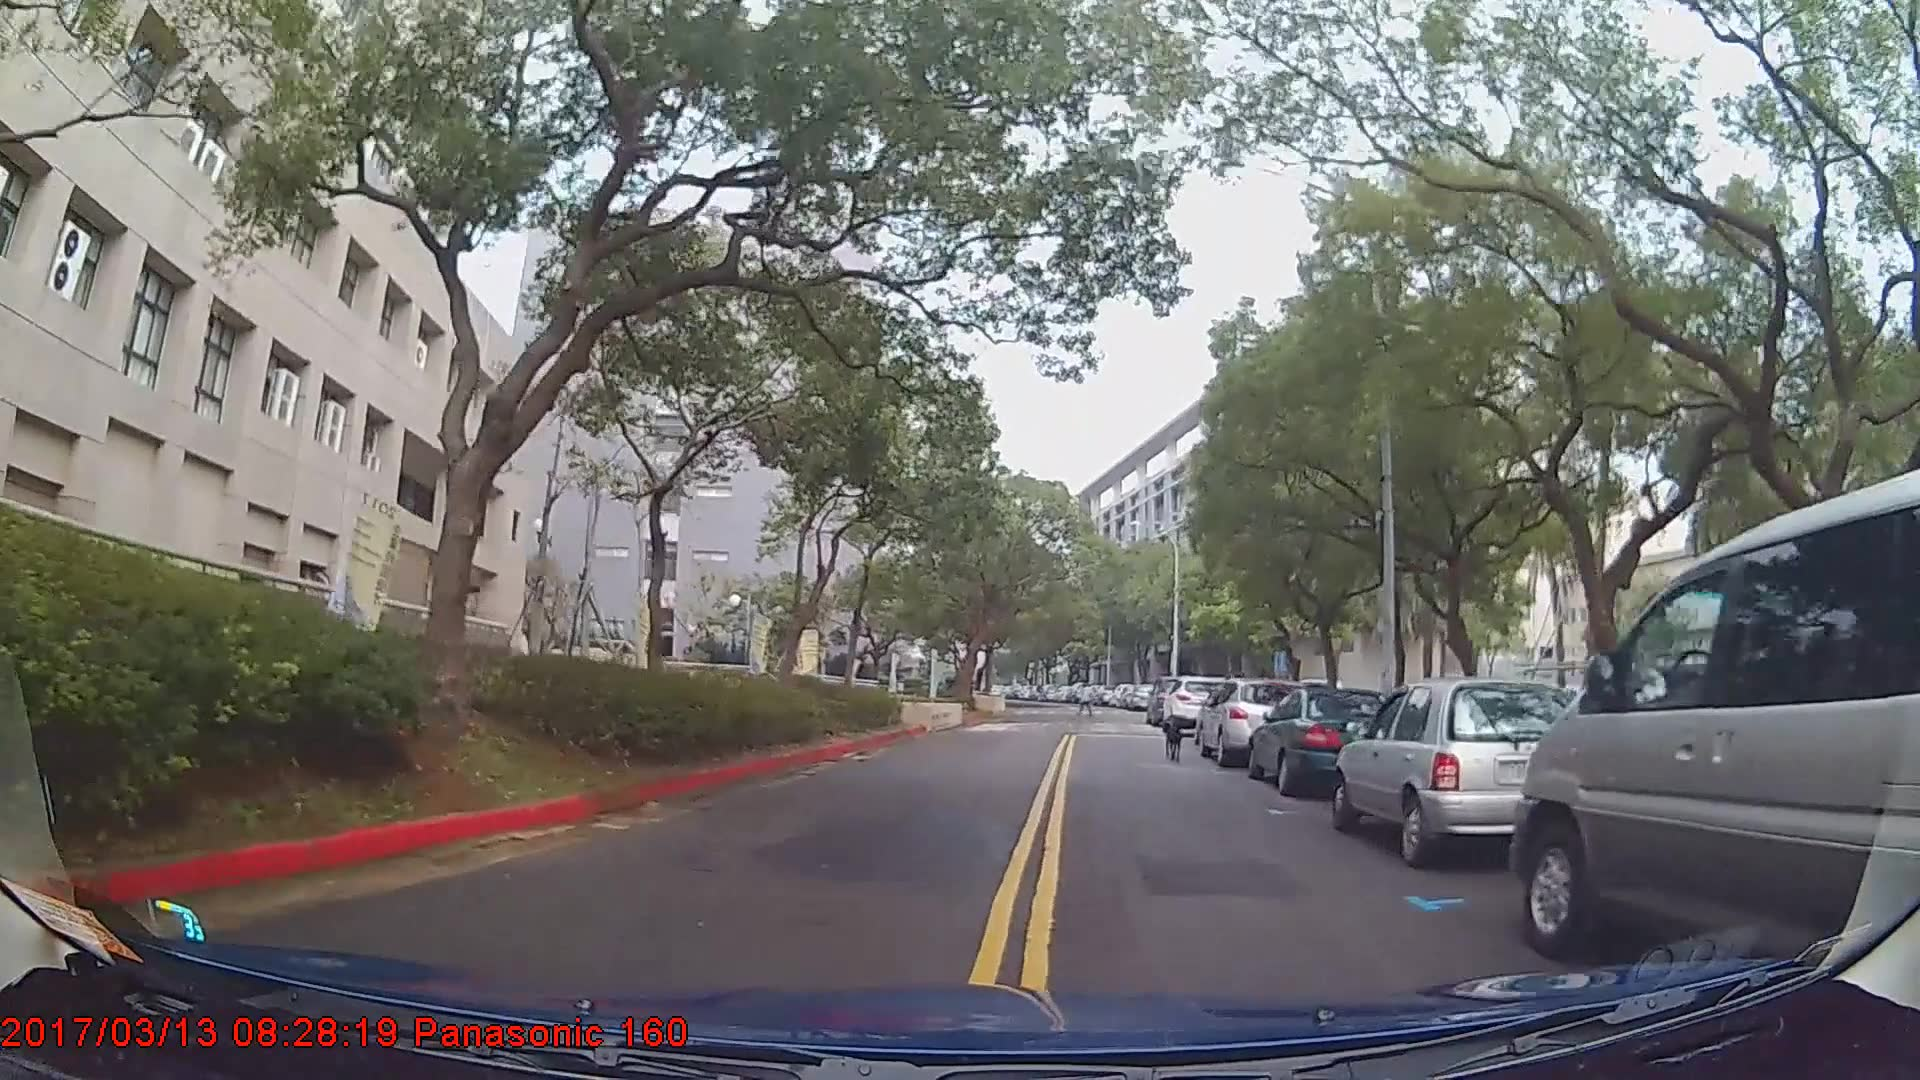vehicle: (1509, 468, 1920, 972), (1335, 679, 1601, 866), (1246, 684, 1404, 799), (1196, 678, 1302, 766), (1163, 673, 1233, 732)
